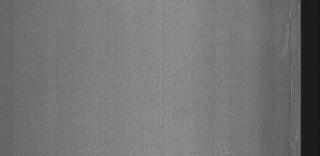silk spot: (274, 7, 298, 62)
